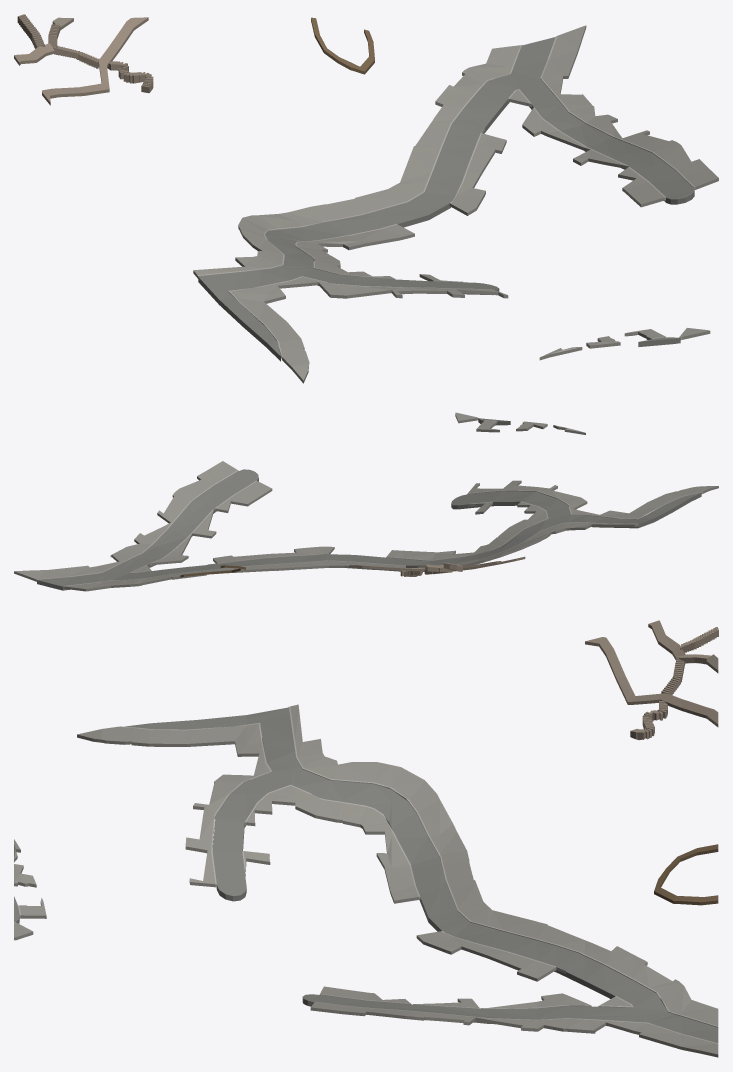
3 views of the same model, one above another, from view 1: azimuth 30°, elevation 25°; view 2: azimuth 150°, elevation 25°; view 3: azimuth 270°, elevation 25° (orthographic). The views are drawn at different scales.
Bounding box in the file's own units: 145 × 37.81 × 146.
